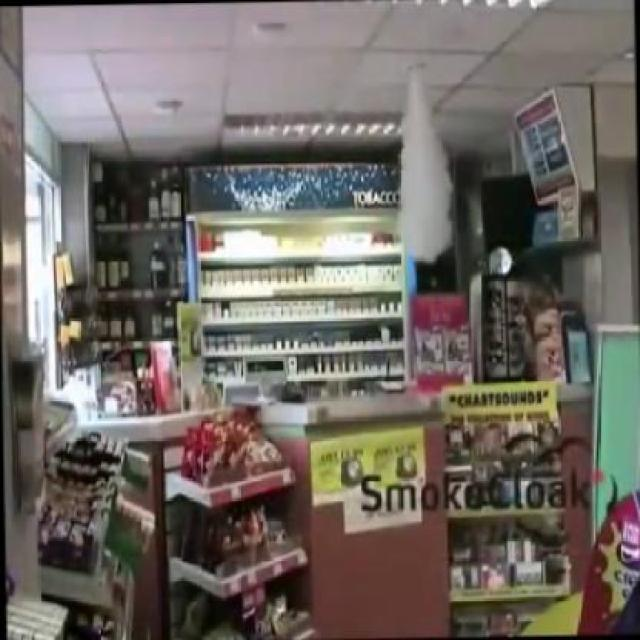fire: (386, 53, 460, 269)
